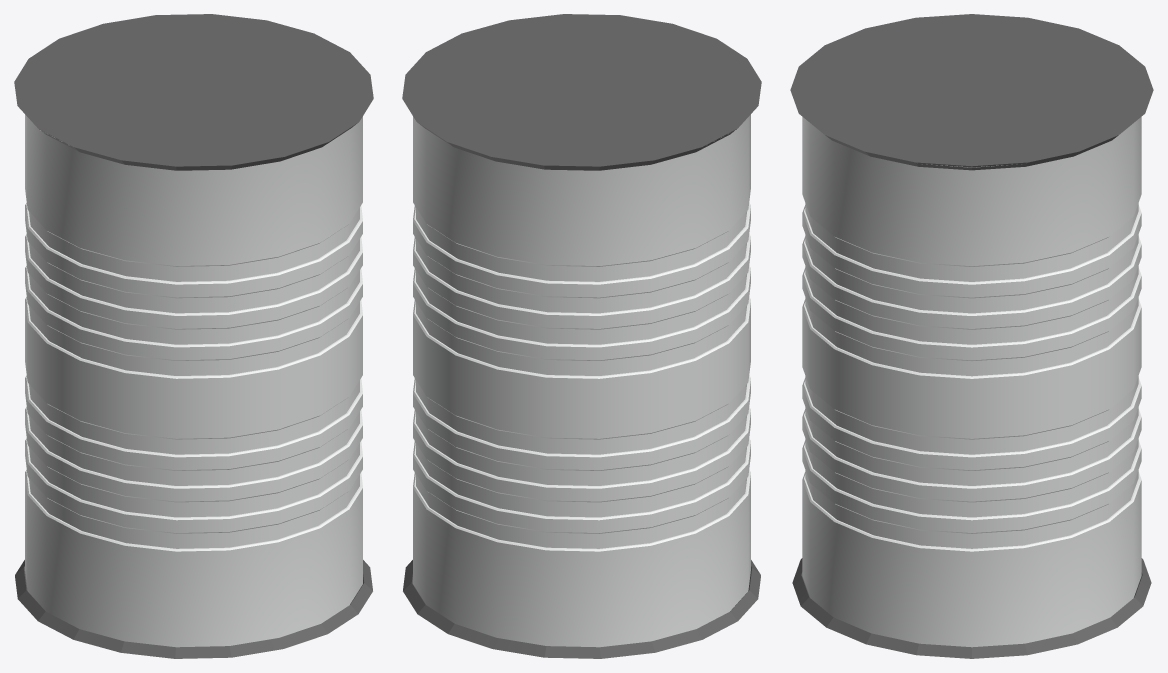
The model's file is fish_soup_can.glb.
3 renders of one model, left to right at view 1: azimuth 30°, elevation 25°; view 2: azimuth 150°, elevation 25°; view 3: azimuth 270°, elevation 25°, orthographic.
Visible parts, largest first — view 1: Base, Cap2, Cap1; view 2: Base, Cap2, Cap1; view 3: Base, Cap2, Cap1.
Boxes of the visible parts, bbox=[...] form: Base: bbox=[25, 114, 362, 647]; Cap2: bbox=[14, 14, 373, 170]; Cap1: bbox=[15, 560, 372, 658]; Base: bbox=[413, 114, 750, 647]; Cap2: bbox=[402, 14, 761, 170]; Cap1: bbox=[403, 560, 760, 658]; Base: bbox=[802, 117, 1141, 647]; Cap2: bbox=[790, 14, 1153, 170]; Cap1: bbox=[792, 558, 1151, 658].
Bounding box in the file's own units: 1.33 × 2 × 1.34.
3 materials, 3 textured.
